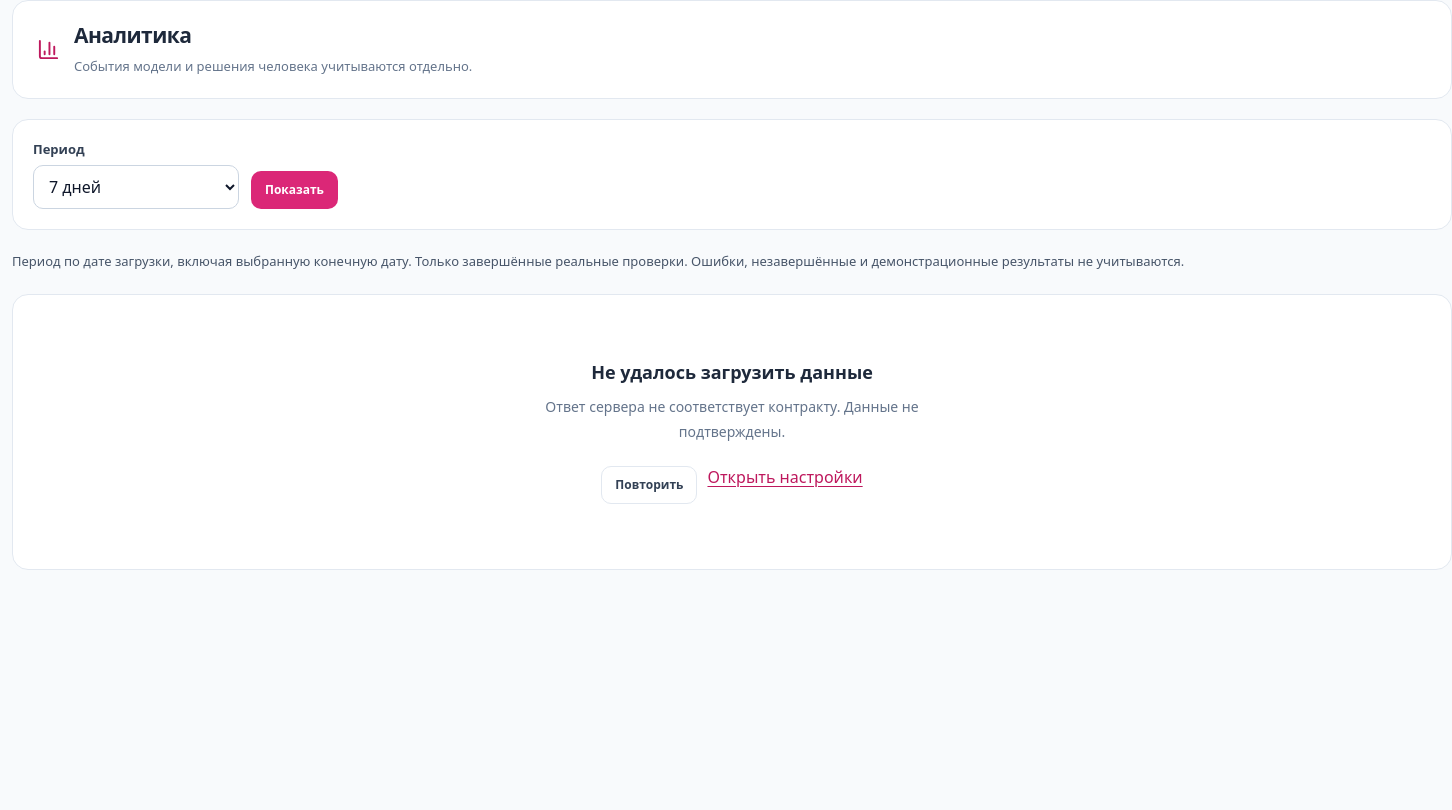
Test case: shows an error instead of inventing counts for malformed analytics and supports retry
Expected: the message is shown, [12,294,1451,570]
Click the button "Повторить" at (649, 485), box [601,466,698,504]
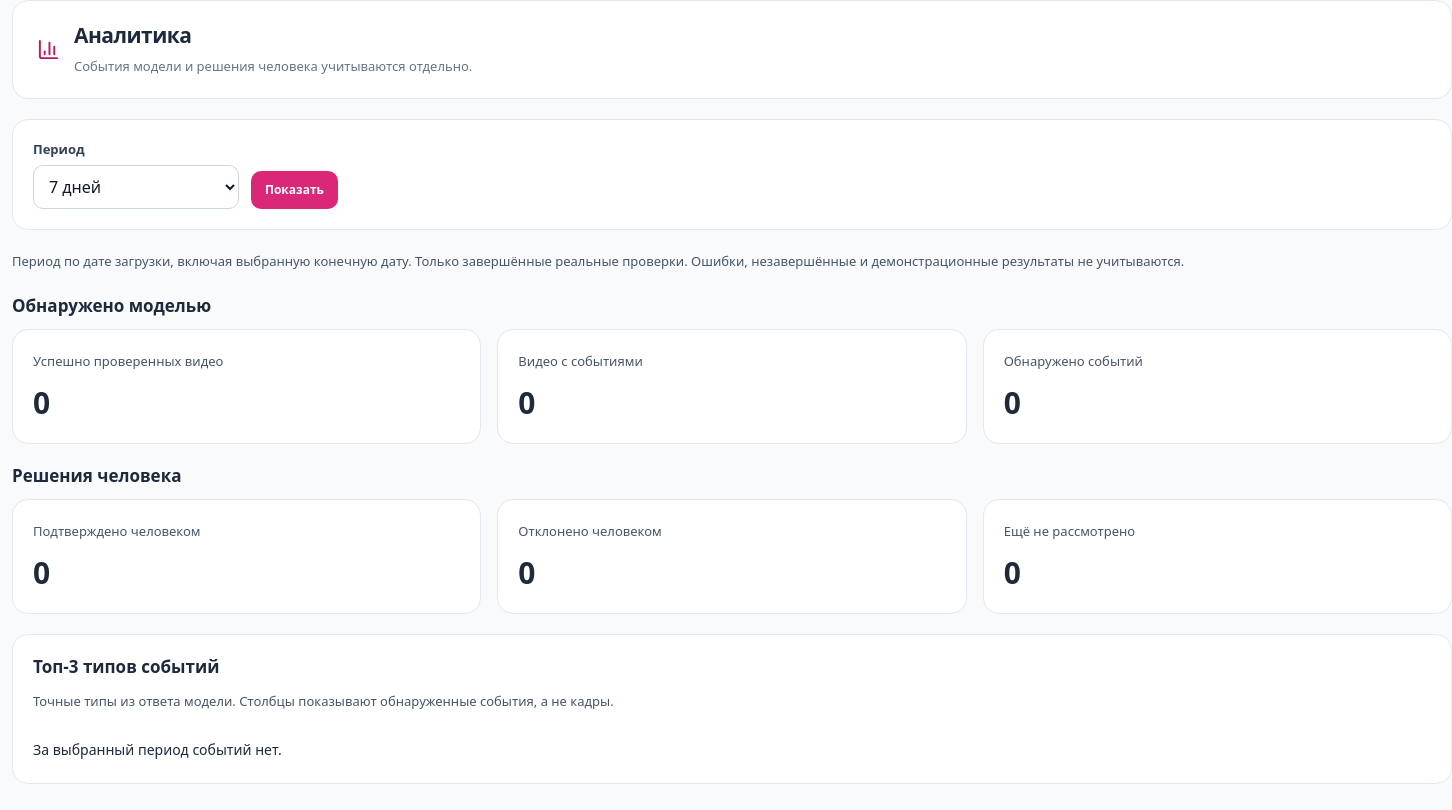
Result: the text "За выбранный период событий нет." is shown at [33,740,282,759]
